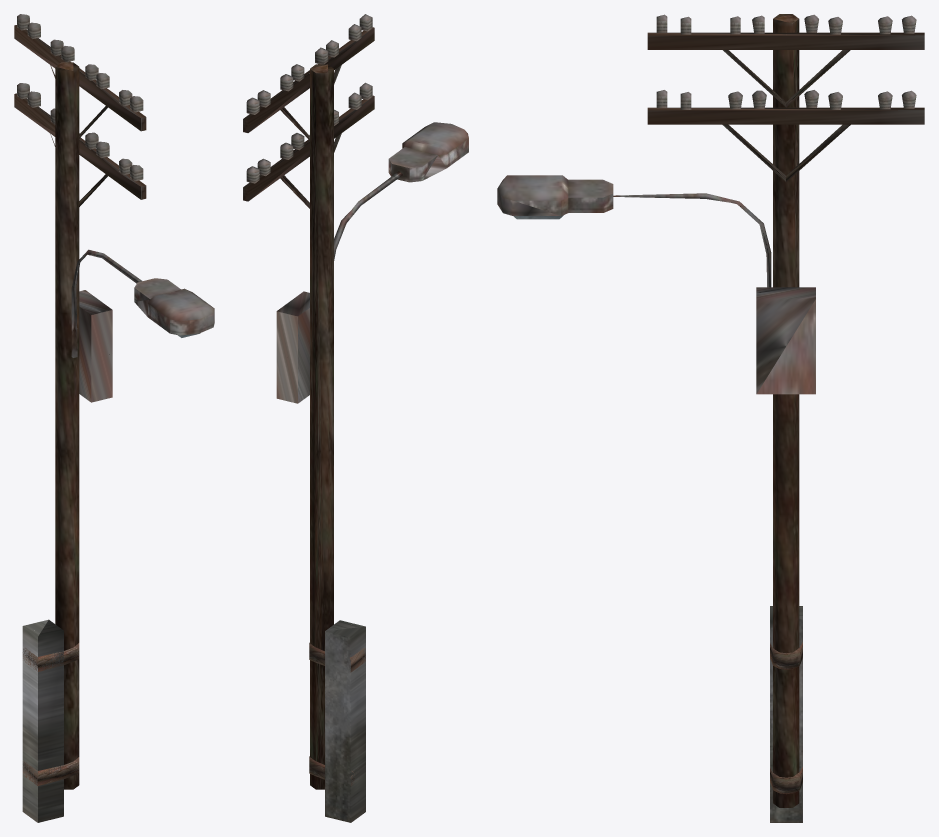
File: p_lamp.glb
3 renders of one model, left to right at view 1: azimuth 30°, elevation 25°; view 2: azimuth 150°, elevation 25°; view 3: azimuth 270°, elevation 25°, orthographic. The views are drawn at different scales.
Visible parts, largest first — view 1: body|pillars; view 2: body|pillars; view 3: body|pillars.
Boxes of the visible parts, left/top/right/bottom form: body|pillars: left=14, top=14, right=214, bottom=822; body|pillars: left=243, top=14, right=468, bottom=822; body|pillars: left=497, top=14, right=924, bottom=822.
Bounding box in the file's own units: 0.6565 × 6.86 × 3.24.
Materials: 1 (1 with a texture image).
